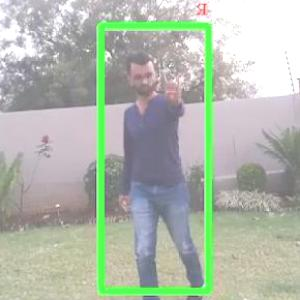takeoff-hand: (160, 66, 193, 105)
